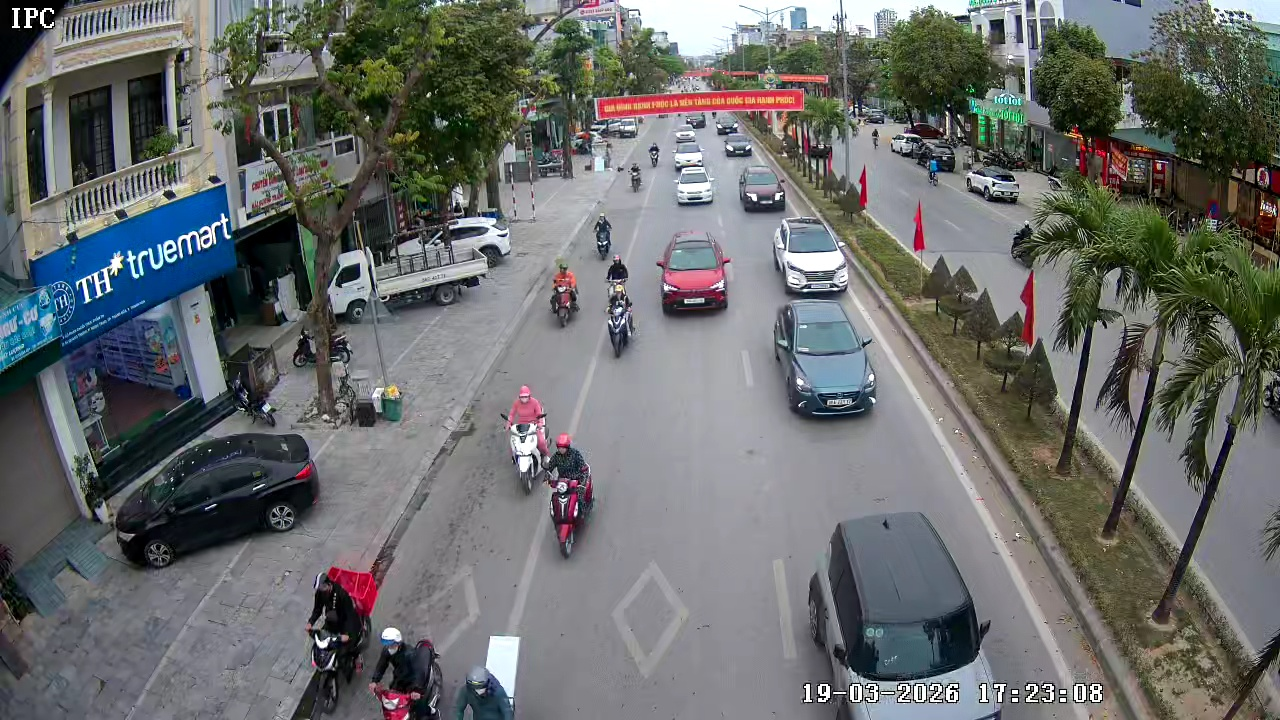car: (802, 510, 1005, 719), (110, 428, 321, 567), (772, 300, 877, 417), (770, 213, 850, 296), (656, 230, 731, 314), (737, 162, 787, 213), (964, 164, 1022, 205), (673, 164, 717, 207), (670, 140, 707, 173), (724, 133, 754, 159)
exception: (452, 663, 517, 719)
motorbike: (303, 566, 371, 714), (367, 625, 444, 719), (544, 433, 596, 559), (499, 382, 550, 497), (605, 281, 637, 359), (548, 257, 581, 328), (605, 253, 630, 298), (591, 210, 613, 261), (627, 158, 644, 193), (646, 141, 660, 168)
